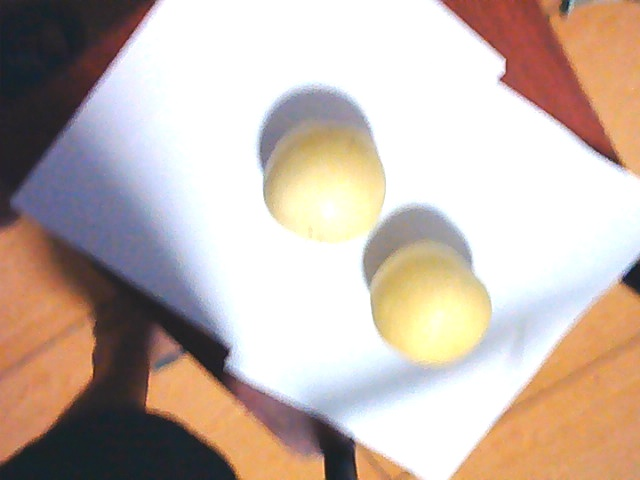pear: (263, 121, 388, 244), (369, 244, 497, 364)
